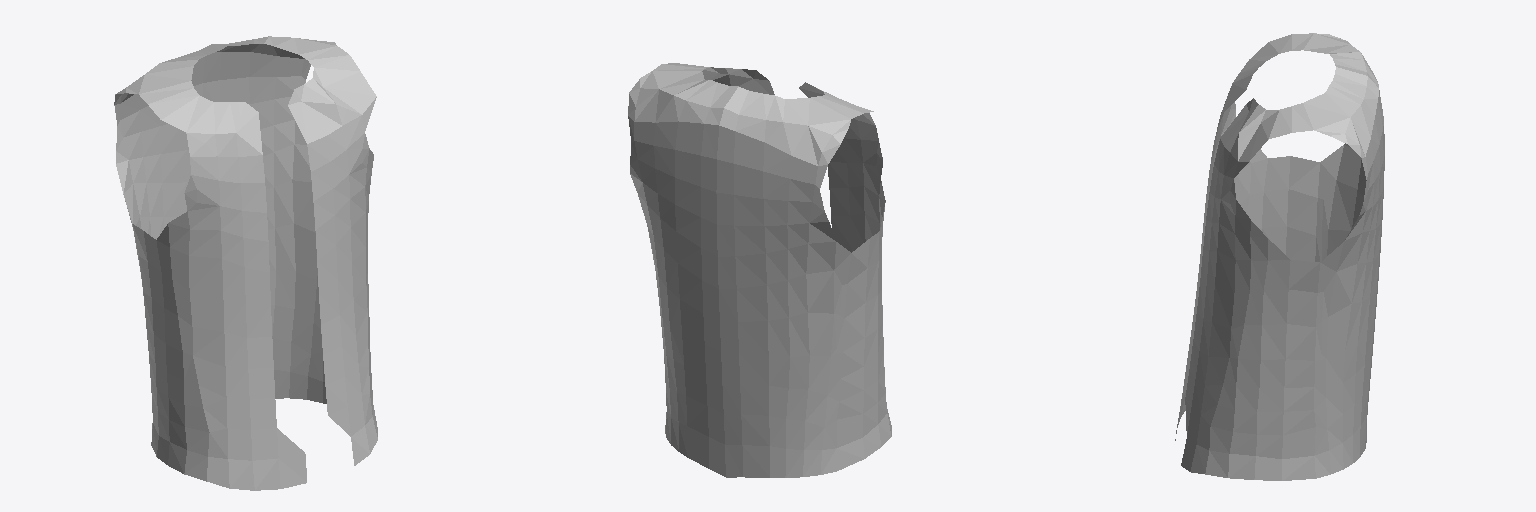
File: cardigan_00.obj
3 views of the same model, side by side, from view 1: azimuth 30°, elevation 25°; view 2: azimuth 150°, elevation 25°; view 3: azimuth 270°, elevation 25° (orthographic).
Visible parts, largest first — view 1: tshirt_0.001; view 2: tshirt_0.001; view 3: tshirt_0.001.
Boxes of the visible parts, x1,y1,x2,y2 form: tshirt_0.001: [114, 36, 377, 490]; tshirt_0.001: [628, 63, 891, 477]; tshirt_0.001: [1175, 33, 1384, 480].
Size of the model in its own units: 0.67 by 1.13 by 0.568.